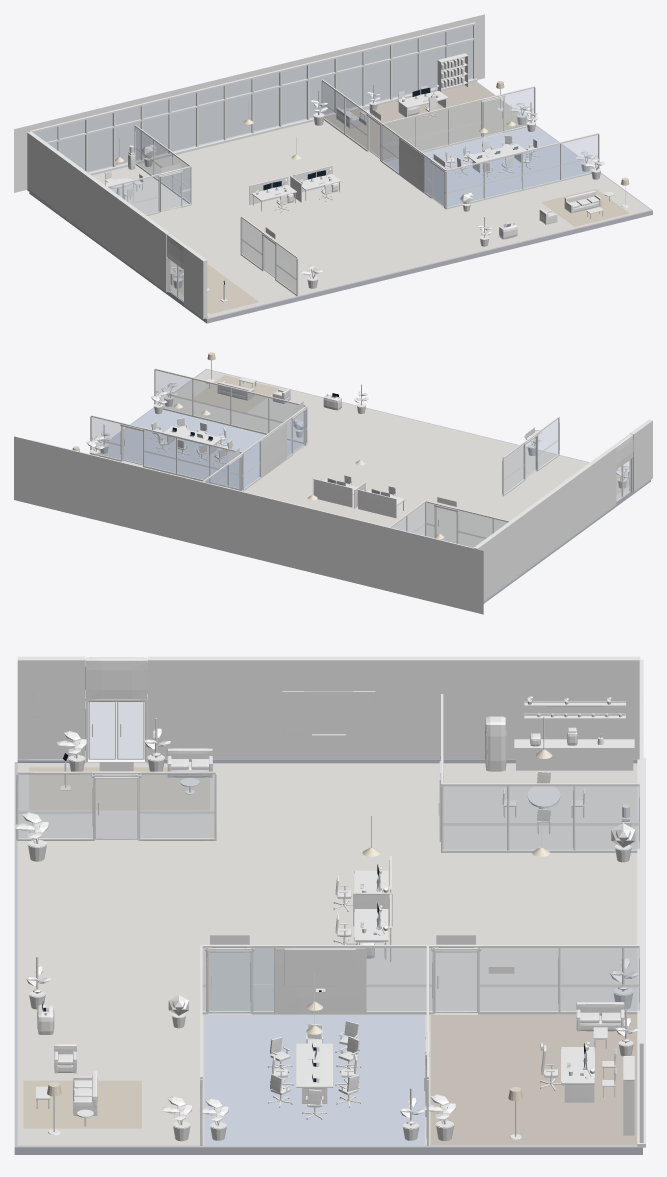
The model's file is office.obj.
3 views of the same model, one above another, from view 1: azimuth 30°, elevation 25°; view 2: azimuth 150°, elevation 25°; view 3: azimuth 270°, elevation 25° (orthographic). The views are drawn at different scales.
Visible parts, largest first — view 1: mesh_1, mesh_95, mesh_7, mesh_8, mesh_94, mesh_93, mesh_3, mesh_4, mesh_2, mesh_6, mesh_5, mesh_96 (+5 smaller); view 2: mesh_7, mesh_1, mesh_95, mesh_8, mesh_3, mesh_94, mesh_93, mesh_5, mesh_178, mesh_2, mesh_219, mesh_96 (+2 smaller); view 3: mesh_1, mesh_8, mesh_95, mesh_93, mesh_3, mesh_4, mesh_94, mesh_2, mesh_6, mesh_5, mesh_32, mesh_22 (+12 smaller).
Boxes of the visible parts, box(x1,y1,x2,y2) form: mesh_1: box(92, 120, 649, 317); mesh_95: box(34, 25, 597, 293); mesh_7: box(14, 14, 484, 192); mesh_8: box(27, 131, 207, 319); mesh_94: box(29, 22, 599, 296); mesh_93: box(88, 53, 628, 302); mesh_3: box(385, 126, 592, 206); mesh_4: box(325, 81, 529, 160); mesh_2: box(29, 81, 652, 323); mesh_6: box(170, 264, 259, 314); mesh_5: box(541, 189, 629, 226); mesh_96: box(130, 102, 597, 280); mesh_7: box(14, 436, 483, 614); mesh_1: box(99, 369, 629, 547); mesh_95: box(92, 370, 558, 547); mesh_8: box(474, 419, 652, 601); mesh_3: box(97, 408, 302, 488); mesh_94: box(30, 368, 632, 548); mesh_93: box(86, 360, 629, 533); mesh_5: box(191, 375, 279, 412); mesh_178: box(354, 482, 405, 518); mesh_2: box(105, 368, 650, 603); mesh_219: box(313, 478, 357, 507); mesh_96: box(92, 391, 558, 538); mesh_1: box(17, 763, 637, 1145); mesh_8: box(17, 656, 640, 759); mesh_95: box(19, 774, 638, 1013); mesh_93: box(14, 695, 645, 1147); mesh_3: box(204, 1015, 424, 1145); mesh_4: box(430, 1015, 637, 1145); mesh_94: box(16, 659, 643, 1145); mesh_2: box(14, 762, 642, 1154); mesh_6: box(29, 767, 209, 810); mesh_5: box(23, 1080, 141, 1128); mesh_32: box(283, 693, 374, 734); mesh_22: box(209, 952, 250, 1011).
Bounding box in the file's own units: 34 × 4.61 × 22.57.
